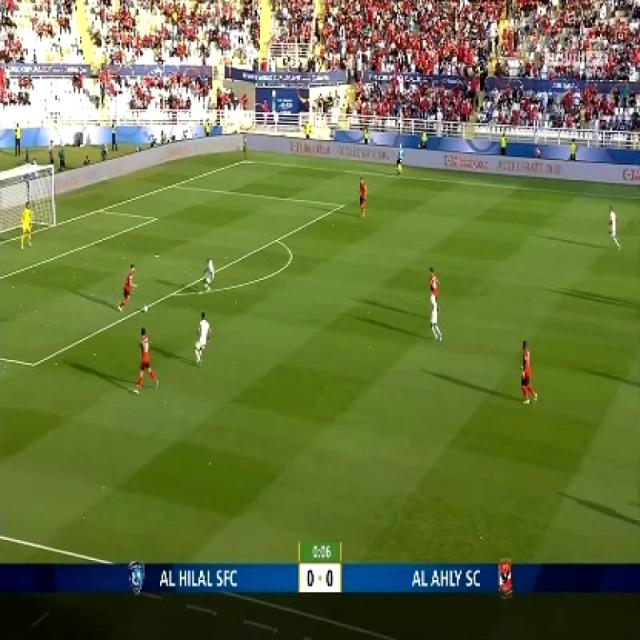bigarea_bottom_inner: (23, 350, 42, 376)
bigarea_top_inner: (334, 198, 346, 212)
bigarea_top_outter: (165, 178, 178, 192)
bottom_arc_area_intersection: (166, 283, 180, 300)
corner: (236, 154, 250, 164)
smallarea_top_inner: (148, 210, 160, 225)
smallarea_top_outter: (90, 202, 105, 216)
top_arc_area_intersection: (268, 231, 282, 246)
